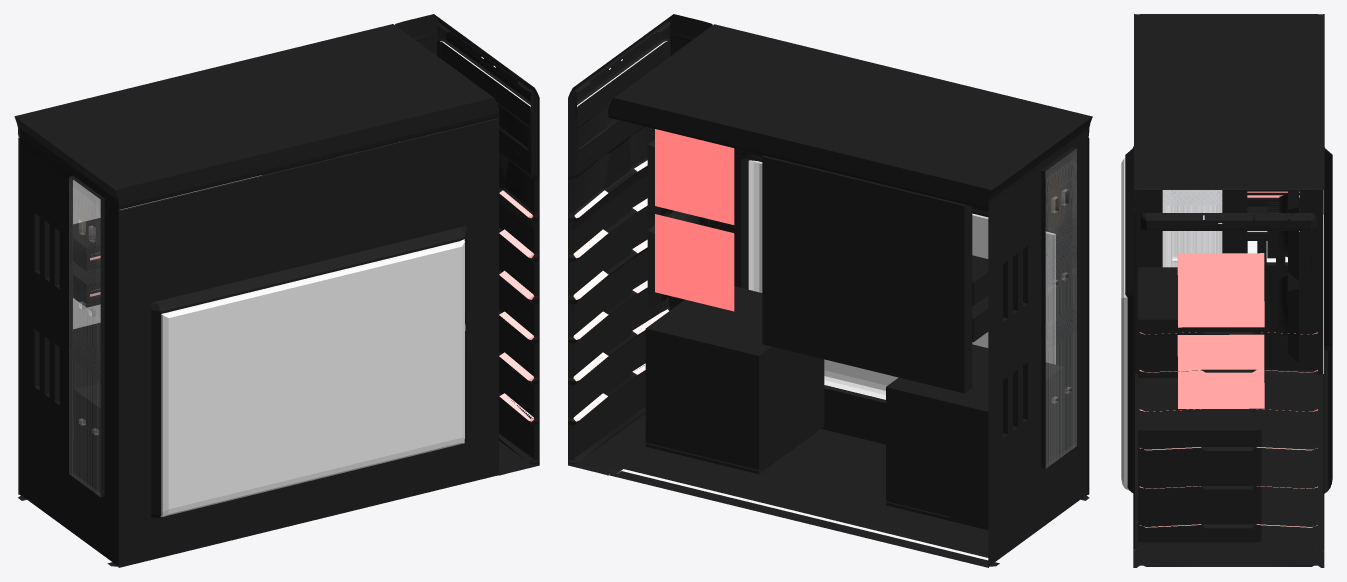
3 views of the same model, side by side, from view 1: azimuth 30°, elevation 25°; view 2: azimuth 150°, elevation 25°; view 3: azimuth 270°, elevation 25° (orthographic). The views are drawn at different scales.
Visible parts, largest first — view 1: Cube, Cube.003, Cube.001, Cube.004, Cube.005; view 2: Cube, Cube.001, Cube.002, Plane.007, Cube.003, Industrial_Fan_1.001, Industrial_Fan_1, Industrial_Fan_1.003, Cube.004, Industrial_Fan_1.002; view 3: Cube, Cube.002, Plane.007, Industrial_Fan_1.002, Industrial_Fan_1.003, Cube.003, Cube.001, Industrial_Fan_1.001, Industrial_Fan_1, Cube.004, Cube.006, Cube.005.
Boxes of the visible parts, x1=… form: Cube: x1=14, y1=14, x2=539, y2=567; Cube.003: x1=74, y1=383, x2=100, y2=492; Cube.001: x1=73, y1=175, x2=261, y2=329; Cube.004: x1=73, y1=218, x2=100, y2=270; Cube.005: x1=73, y1=261, x2=100, y2=307; Cube: x1=568, y1=14, x2=1092, y2=567; Cube.001: x1=762, y1=155, x2=972, y2=393; Cube.002: x1=645, y1=286, x2=824, y2=474; Plane.007: x1=585, y1=415, x2=988, y2=557; Cube.003: x1=886, y1=344, x2=1064, y2=529; Industrial_Fan_1.001: x1=655, y1=214, x2=734, y2=311; Industrial_Fan_1: x1=655, y1=129, x2=734, y2=224; Industrial_Fan_1.003: x1=647, y1=211, x2=699, y2=308; Cube.004: x1=972, y1=255, x2=988, y2=305; Industrial_Fan_1.002: x1=647, y1=139, x2=669, y2=222; Cube: x1=1121, y1=14, x2=1332, y2=567; Cube.002: x1=1138, y1=378, x2=1261, y2=542; Plane.007: x1=1144, y1=370, x2=1315, y2=557; Industrial_Fan_1.002: x1=1177, y1=253, x2=1264, y2=327; Industrial_Fan_1.003: x1=1177, y1=334, x2=1264, y2=408; Cube.003: x1=1138, y1=267, x2=1261, y2=378; Cube.001: x1=1300, y1=190, x2=1315, y2=325; Industrial_Fan_1.001: x1=1279, y1=272, x2=1298, y2=361; Industrial_Fan_1: x1=1279, y1=190, x2=1298, y2=280; Cube.004: x1=1247, y1=190, x2=1299, y2=206; Cube.006: x1=1267, y1=210, x2=1279, y2=258; Cube.005: x1=1247, y1=206, x2=1299, y2=240.
Size of the model in its own units: 4.95 by 4.17 by 2.23.
Materials: 5 (1 with a texture image).
